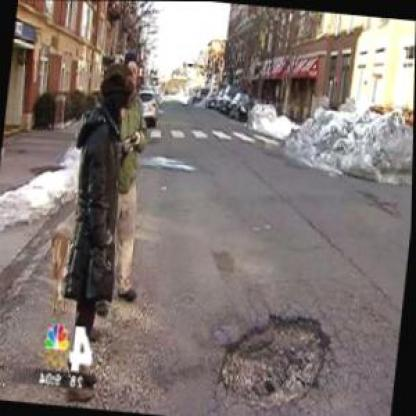pothole: (216, 301, 337, 410)
